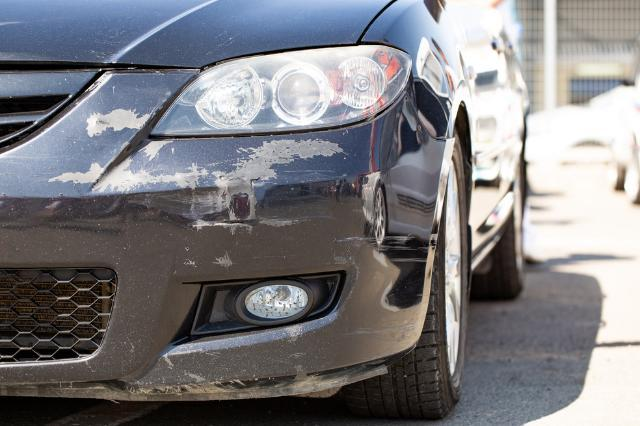Bumper: (51, 122, 396, 405)
